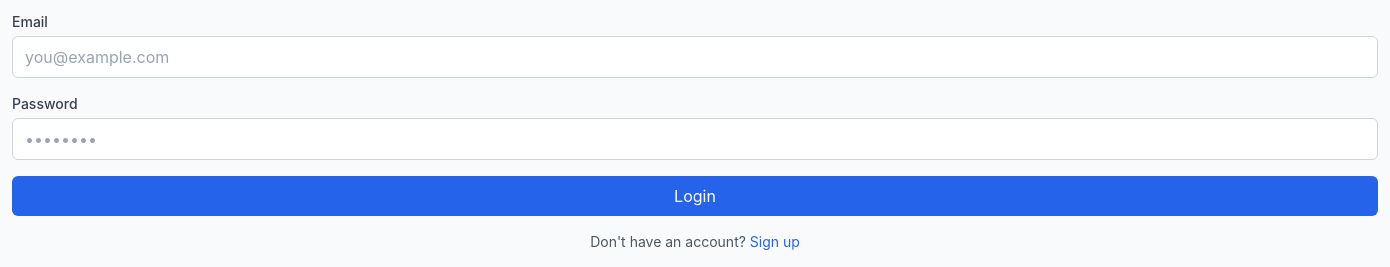
it: AuthForm Component › Submit Button › disables submit button while loading
Type "test@example.com" into the field labelled "Email". click: (695, 57)
box: 12,36 -> 1378,78
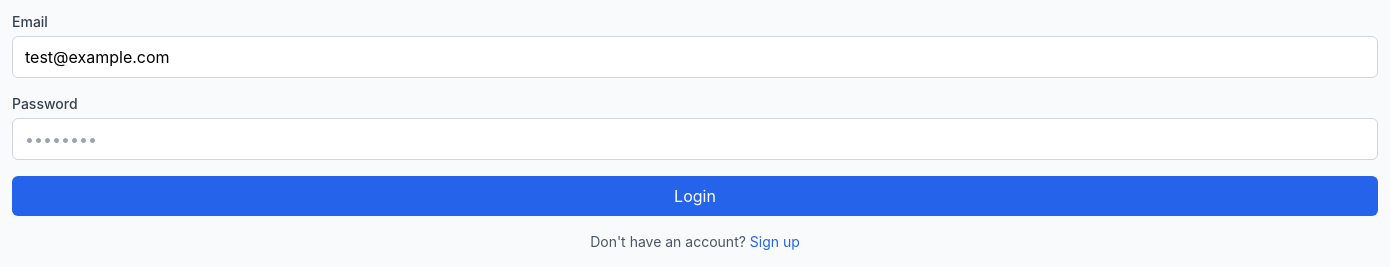
Type "password123" into the password field labelled "Password". click: (695, 139)
box: 12,118 -> 1378,160
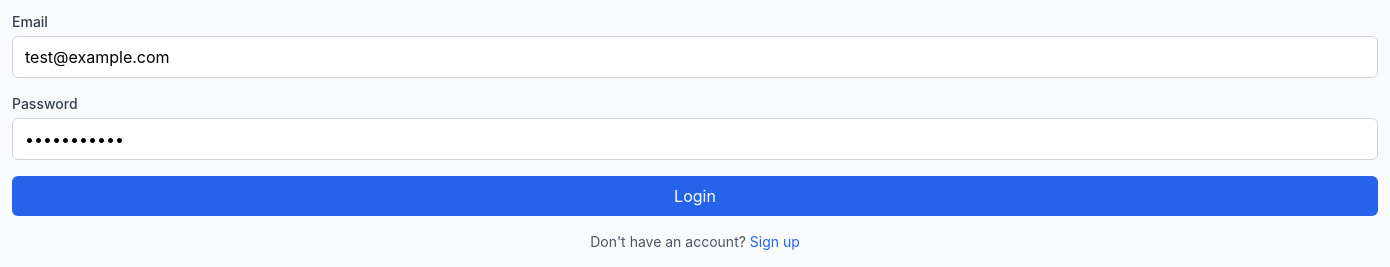
Click the button "Login". click: (695, 196)
box: 12,176 -> 1378,216
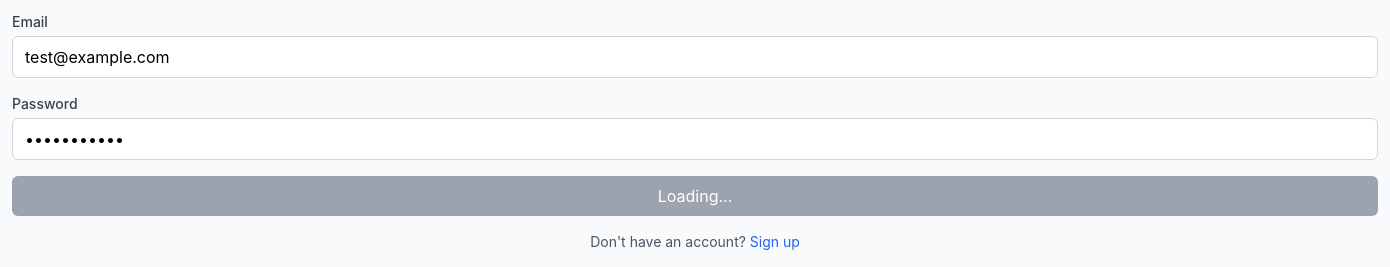
Now the button named "login" is disabled, box 12,176 -> 1378,216
